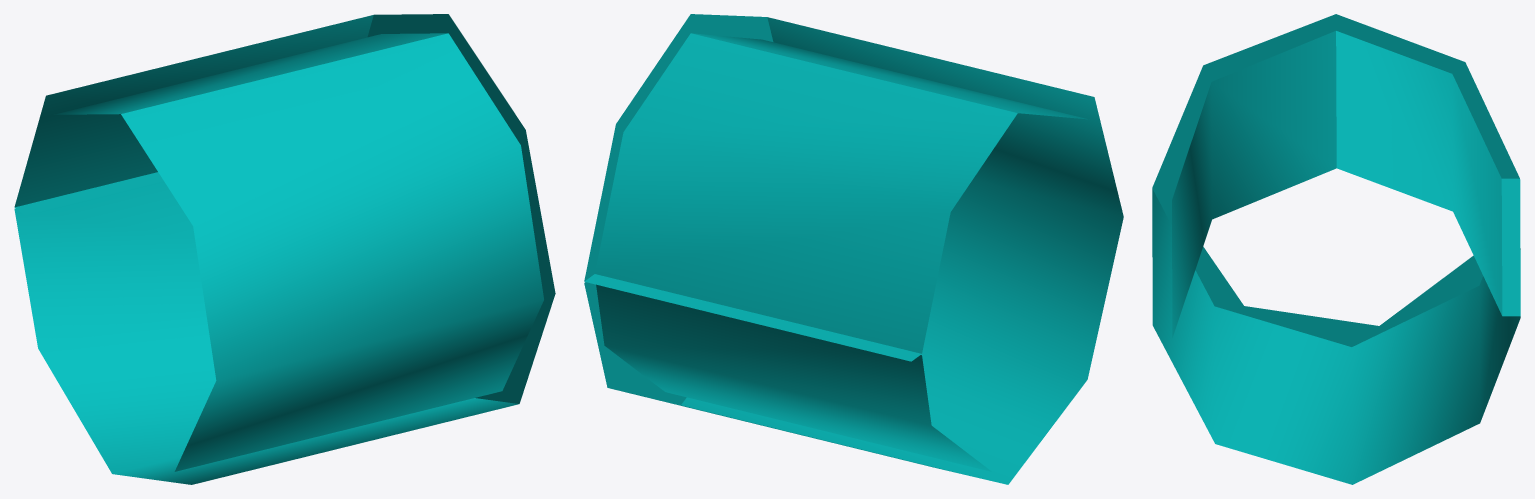
The picture shows the model from 3 angles, left to right: view 1: azimuth 30°, elevation 25°; view 2: azimuth 150°, elevation 25°; view 3: azimuth 270°, elevation 25°; orthographic projection. The views are drawn at different scales.
Parts seen in each view (by area): view 1: 0_2_1_3_0_3_2_3_1_1_3_1; view 2: 0_2_1_3_0_3_2_3_1_1_3_1; view 3: 0_2_1_3_0_3_2_3_1_1_3_1.
Boxes of the visible parts, x1,y1,x2,y2 form: 0_2_1_3_0_3_2_3_1_1_3_1: [14, 14, 555, 484]; 0_2_1_3_0_3_2_3_1_1_3_1: [584, 14, 1123, 484]; 0_2_1_3_0_3_2_3_1_1_3_1: [1152, 14, 1520, 484].
Bounding box in the file's own units: 5.33 × 6 × 6.01.
